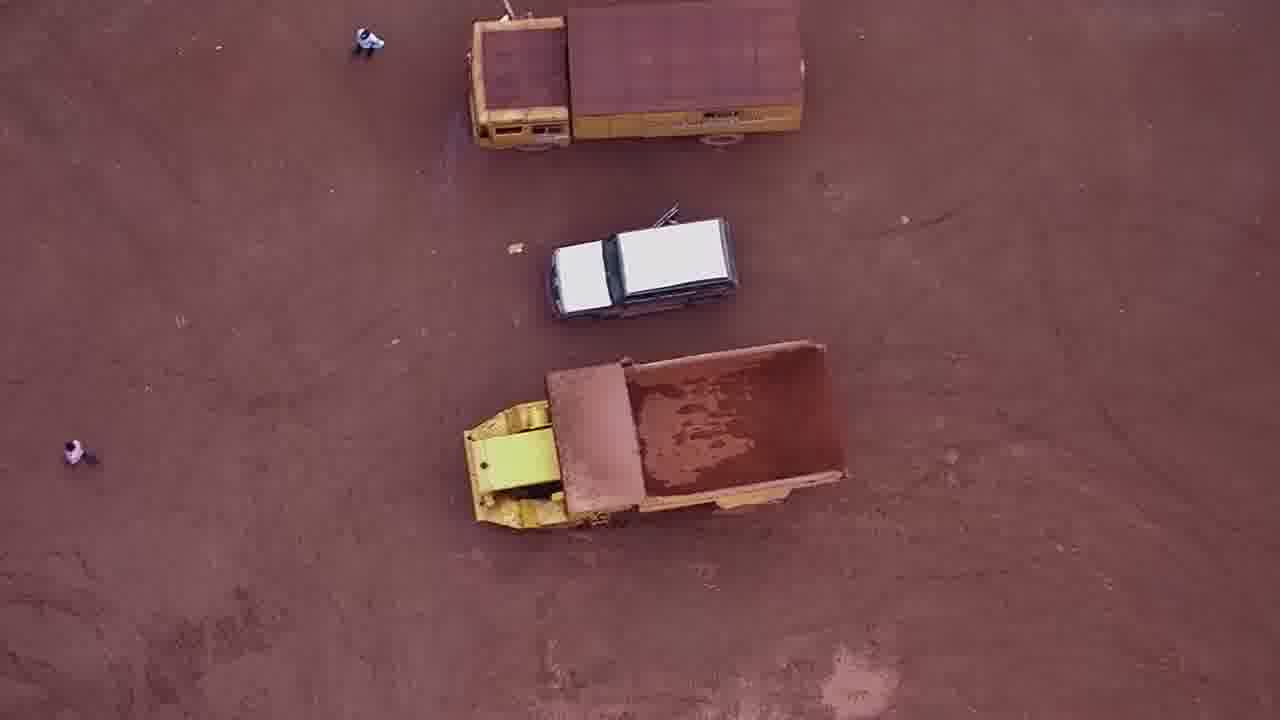HMV: (450, 340, 854, 530), (456, 1, 812, 151)
LMV: (542, 214, 742, 323)
Person: (61, 430, 95, 476), (349, 20, 385, 63)
